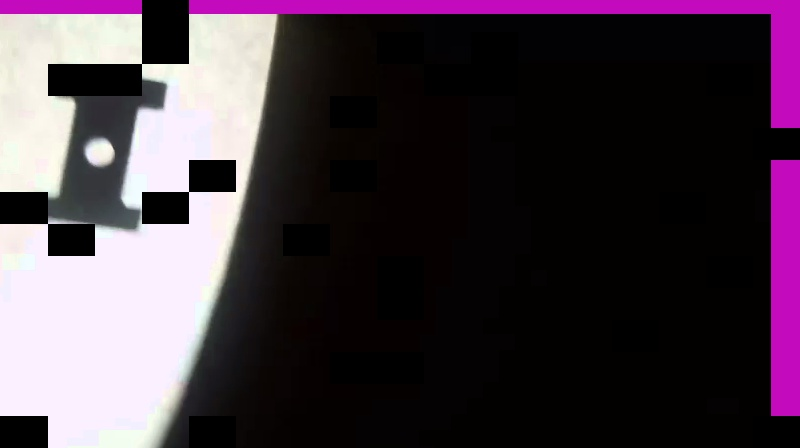O002: (25, 62, 172, 233)
